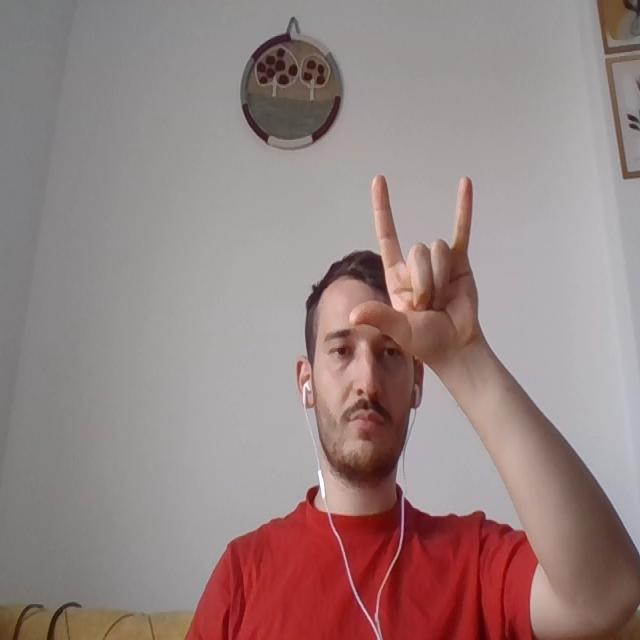i love you: (350, 192, 500, 366)
